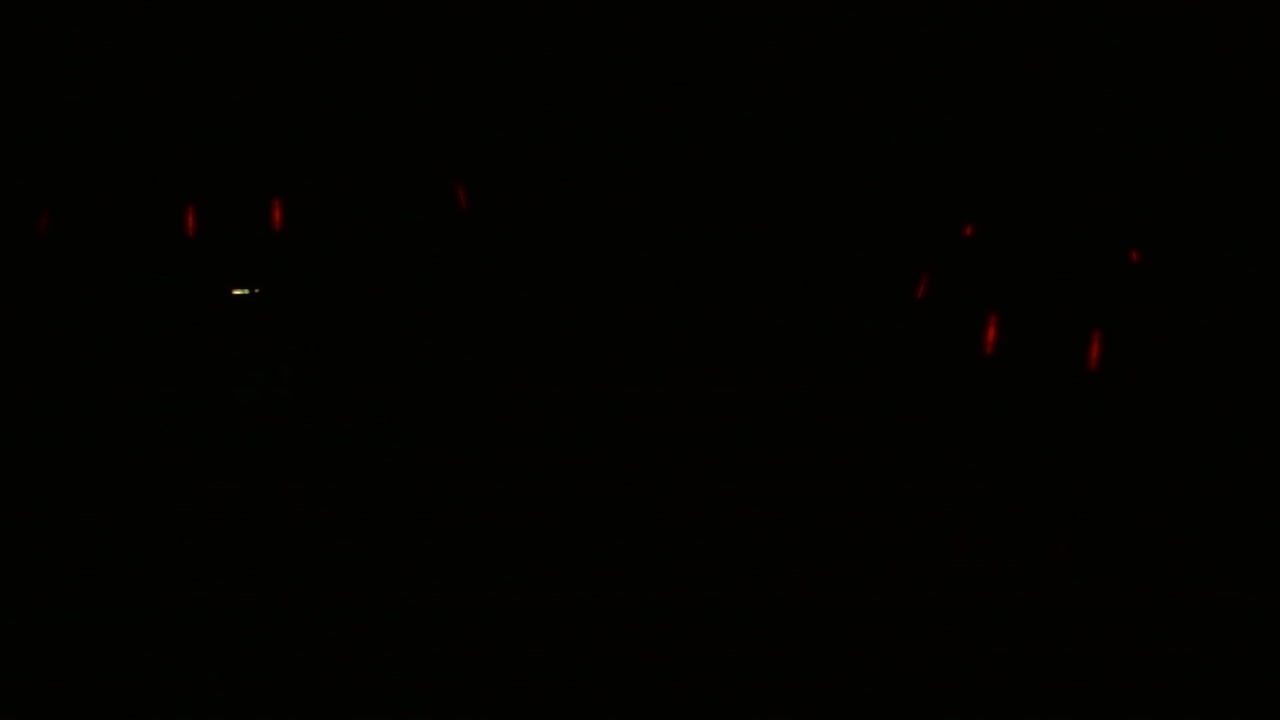pair1: (982, 312, 1108, 371), (176, 195, 300, 242)
